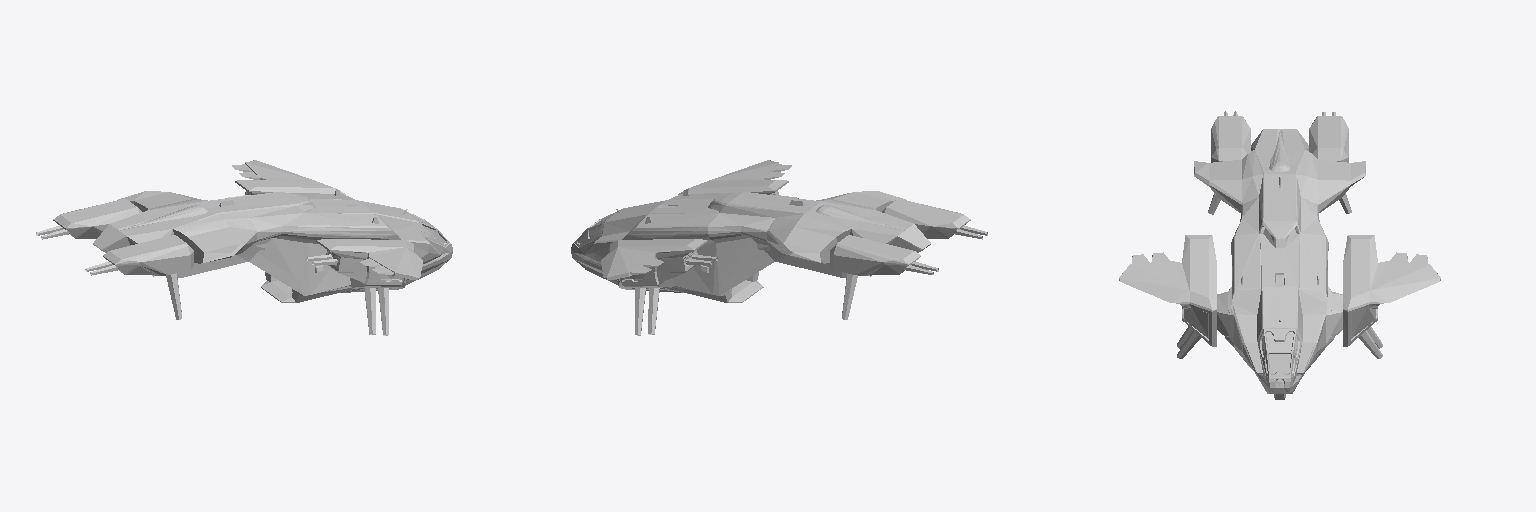
Rendered from Pelican.obj.
3 renders of one model, left to right at view 1: azimuth 30°, elevation 25°; view 2: azimuth 150°, elevation 25°; view 3: azimuth 270°, elevation 25°, orthographic.
Visible parts, largest first — view 1: Pelican:__unnamed; view 2: Pelican:__unnamed; view 3: Pelican:__unnamed.
Boxes of the visible parts, box(x1,y1,x2,y2) form: Pelican:__unnamed: box(36, 160, 452, 335); Pelican:__unnamed: box(571, 160, 987, 335); Pelican:__unnamed: box(1119, 111, 1440, 399).
Bounding box in the file's own units: 52.98 × 16.8 × 38.41.